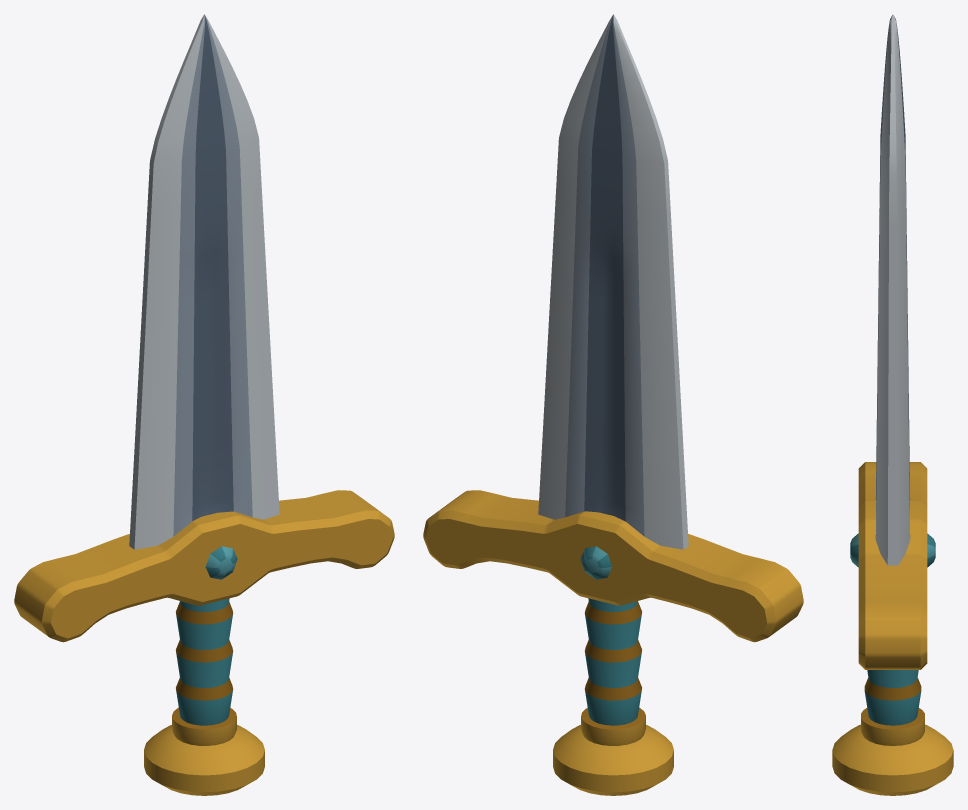
File: Broadsword_16.glb
The picture shows the model from 3 angles, left to right: view 1: azimuth 30°, elevation 25°; view 2: azimuth 150°, elevation 25°; view 3: azimuth 270°, elevation 25°; orthographic projection.
Parts seen in each view (by area): view 1: Broadsword_16; view 2: Broadsword_16; view 3: Broadsword_16.
Part boxes in pixels (bbox=[...]): Broadsword_16: bbox=[14, 14, 394, 795]; Broadsword_16: bbox=[423, 14, 803, 795]; Broadsword_16: bbox=[832, 14, 953, 795].
Size of the model in its own units: 2.78 by 5.74 by 0.8268.
